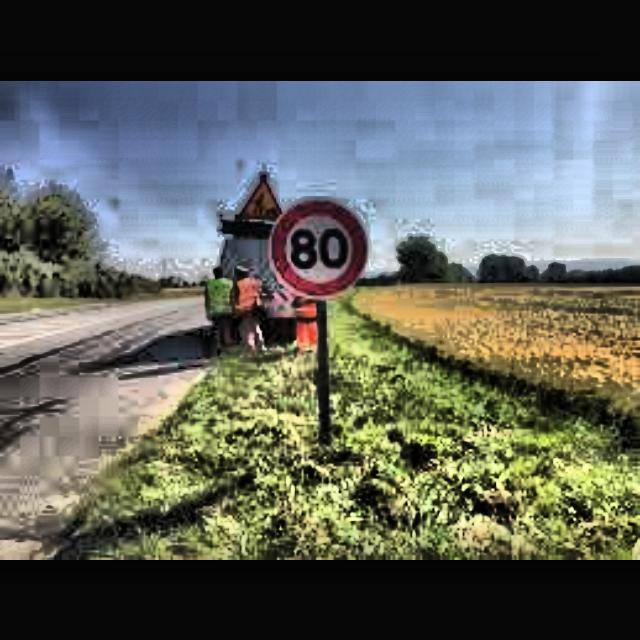speed_80: (272, 198, 366, 292)
